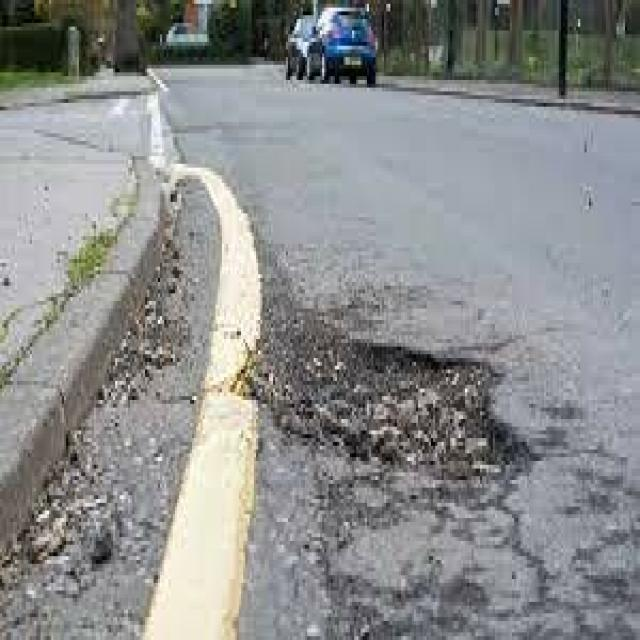Buraco: (232, 316, 539, 486)
